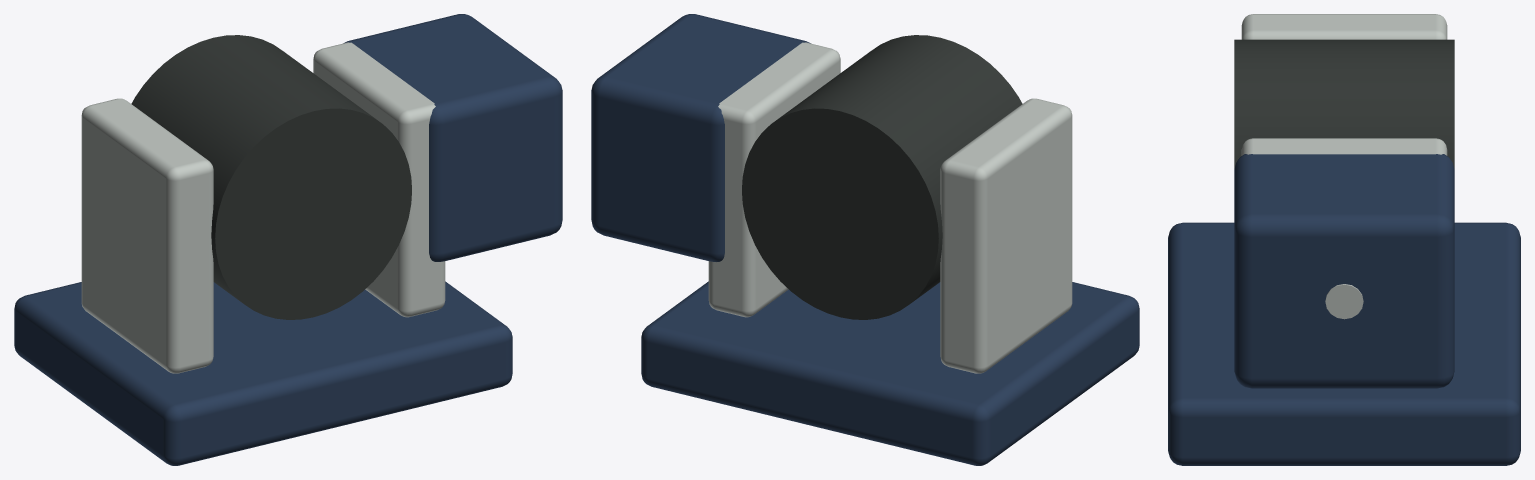
Rendered from planetarium-and-optical-observatory-dome-drive-wheel-a-872d6216__31845.glb.
3 views of the same model, side by side, from view 1: azimuth 30°, elevation 25°; view 2: azimuth 150°, elevation 25°; view 3: azimuth 270°, elevation 25° (orthographic). The views are drawn at different scales.
Parts seen in each view (by area): view 1: dome-drive-wheel-assembly; view 2: dome-drive-wheel-assembly; view 3: dome-drive-wheel-assembly.
Part boxes in pixels (x1,y1,x2,y2): dome-drive-wheel-assembly: [14, 14, 562, 465]; dome-drive-wheel-assembly: [591, 14, 1139, 465]; dome-drive-wheel-assembly: [1168, 14, 1520, 465].
Bounding box in the file's own units: 0.3712 × 0.245 × 0.24.
